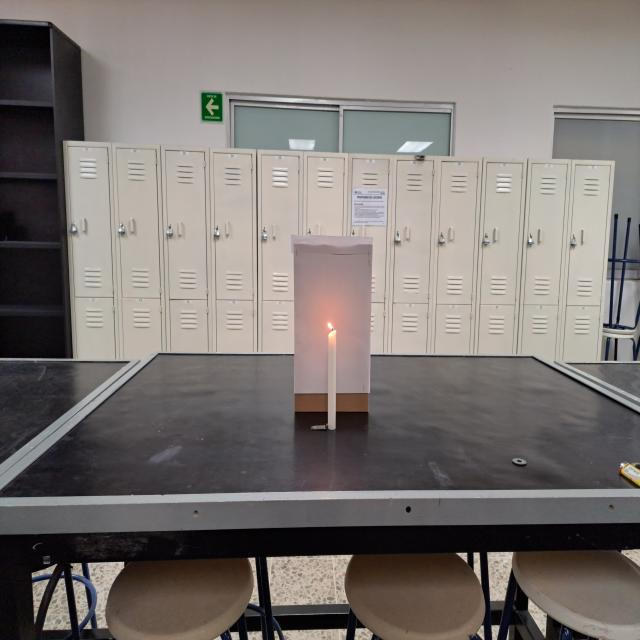candle: (322, 316, 340, 433)
wall: (290, 230, 373, 418)
